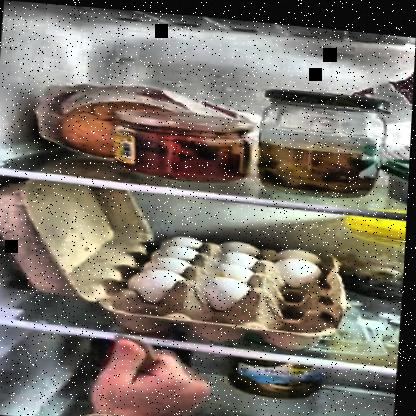eggs: (141, 230, 322, 314)
olives: (344, 248, 405, 296)
